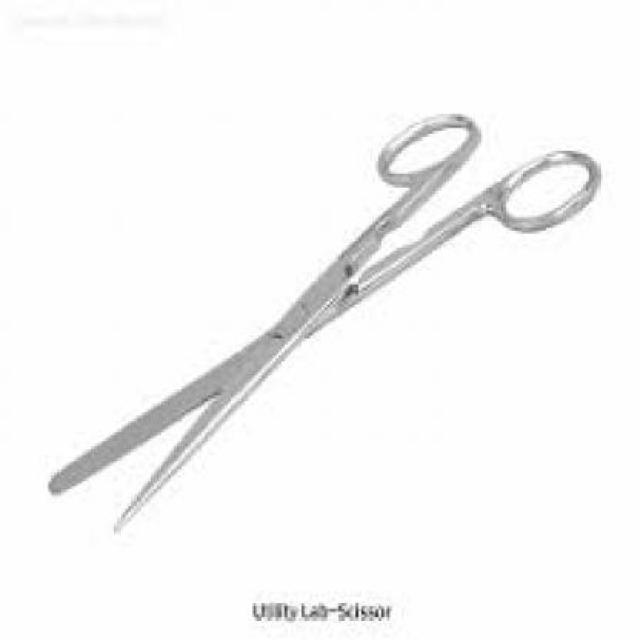scissors: (49, 114, 600, 536)
